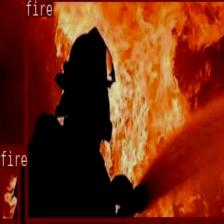fire: (24, 0, 224, 222), (0, 167, 19, 223)
